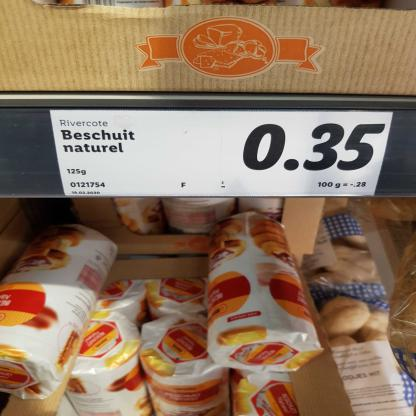prtg: (50, 111, 395, 198)
